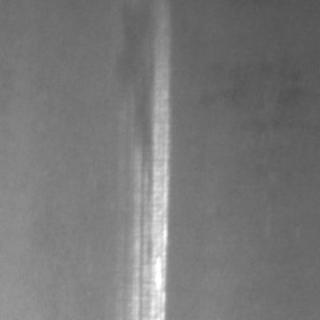scratches: (126, 50, 170, 316)
